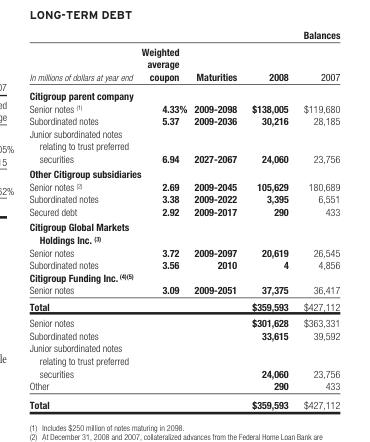table: (28, 28, 339, 410)
table column: (28, 28, 136, 410), (189, 28, 243, 410), (136, 28, 189, 410), (243, 28, 295, 410), (295, 28, 339, 410)
table column header: (28, 28, 339, 85)
table projected row header: (28, 218, 339, 245), (28, 85, 339, 101), (28, 165, 339, 179), (28, 270, 339, 283)
table row: (28, 126, 339, 165), (28, 341, 339, 379), (28, 55, 339, 85), (28, 28, 339, 55), (28, 218, 339, 245), (28, 297, 339, 314), (28, 85, 339, 101), (28, 379, 339, 395), (28, 395, 339, 410), (28, 165, 339, 179), (28, 283, 339, 297), (28, 314, 339, 328), (28, 101, 339, 114), (28, 179, 339, 192), (28, 192, 339, 205), (28, 205, 339, 218), (28, 245, 339, 258), (28, 270, 339, 283), (28, 328, 339, 341), (28, 114, 339, 126), (28, 258, 339, 270)
table spanning cell: (28, 28, 136, 85), (189, 28, 243, 85), (136, 28, 189, 85), (243, 28, 339, 55)
